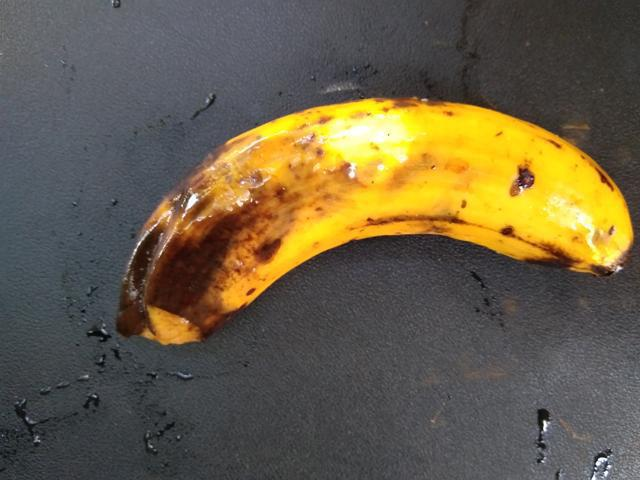overripe: (332, 75, 639, 320)
rotten: (97, 105, 361, 374)
